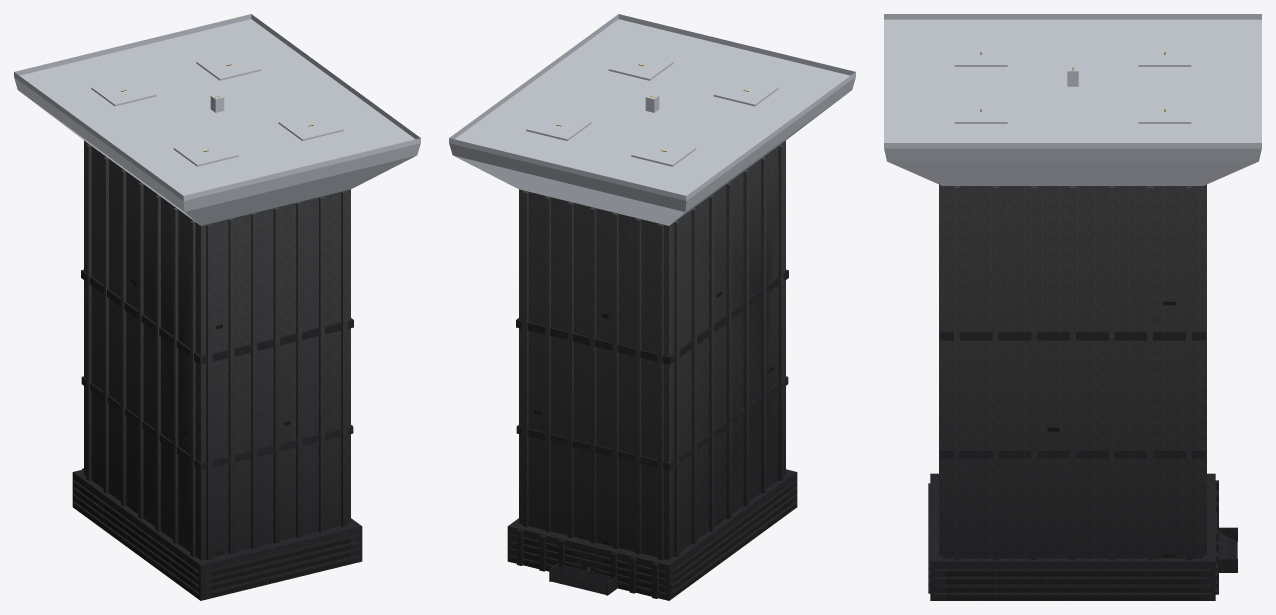
File: lapd-medium.glb
3 views of the same model, side by side, from view 1: azimuth 30°, elevation 25°; view 2: azimuth 150°, elevation 25°; view 3: azimuth 270°, elevation 25° (orthographic). The views are drawn at different scales.
Parts seen in each view (by area): view 1: solid-0, crown, glass-detail; view 2: solid-0, crown, glass-detail; view 3: solid-0, crown, glass-detail.
Boxes of the visible parts, x1=… form: solid-0: x1=72, y1=140, x2=362, y2=600; crown: x1=14, y1=14, x2=420, y2=225; glass-detail: x1=79, y1=279, x2=350, y2=596; solid-0: x1=507, y1=140, x2=797, y2=600; crown: x1=449, y1=14, x2=855, y2=225; glass-detail: x1=523, y1=291, x2=790, y2=595; solid-0: x1=928, y1=184, x2=1237, y2=600; crown: x1=884, y1=14, x2=1261, y2=185; glass-detail: x1=945, y1=301, x2=1200, y2=599.
Size of the model in its own units: 126 by 223 by 156.
5 materials, 1 textured.
